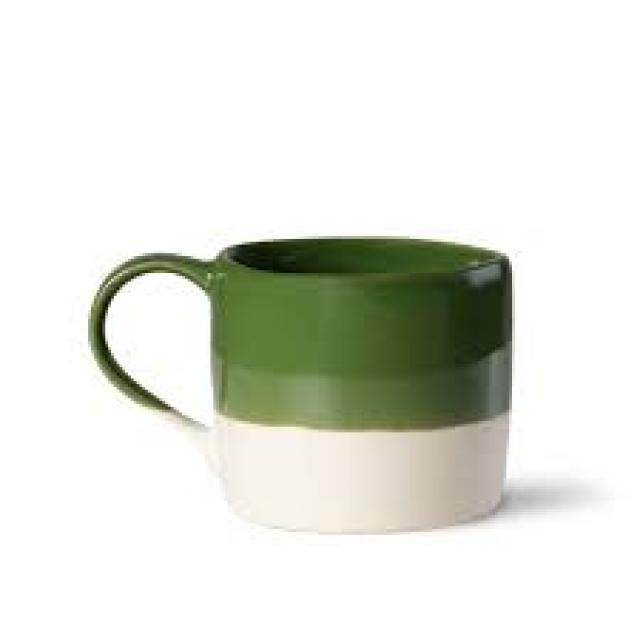taza: (86, 235, 512, 536)
